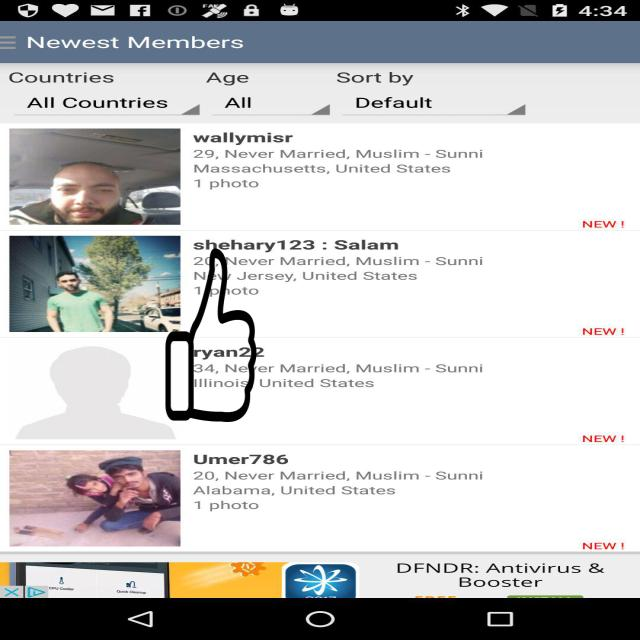privacy zuckering: (164, 248, 258, 422)
